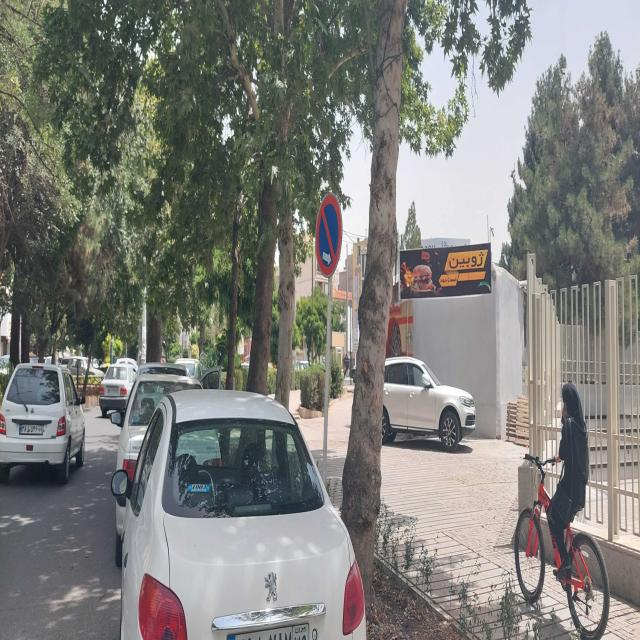forb_stopping: (314, 191, 343, 278)
